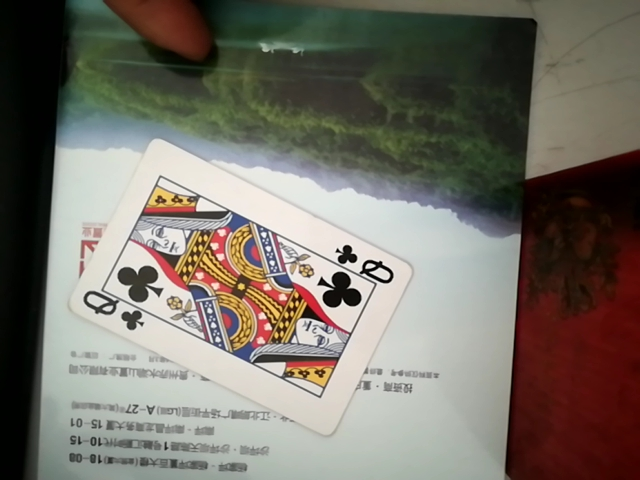mh q: (54, 134, 411, 437)
